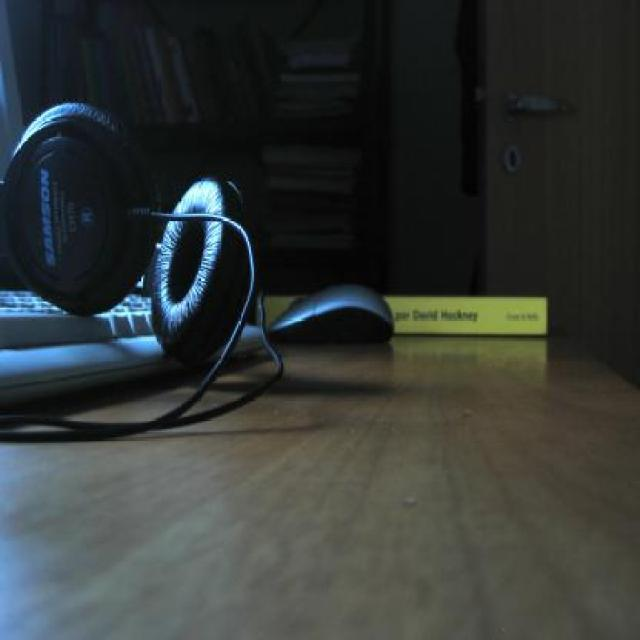earphone: (15, 78, 257, 367)
mouse: (272, 253, 416, 380)
